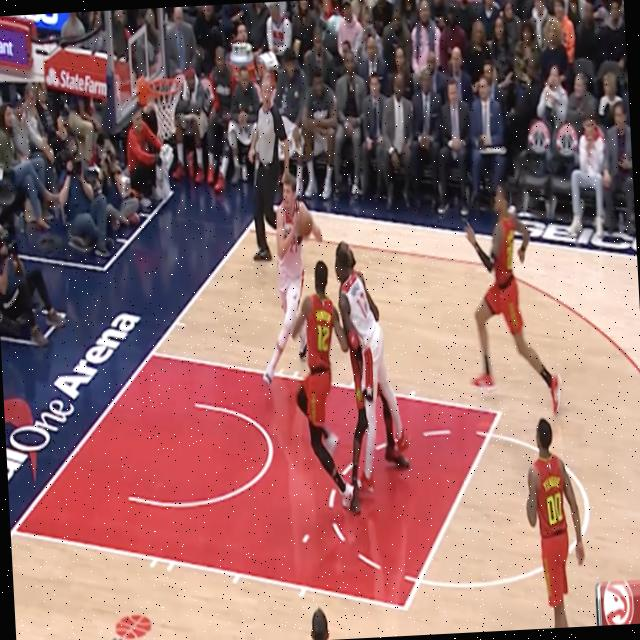Foul: (328, 236, 418, 509)
